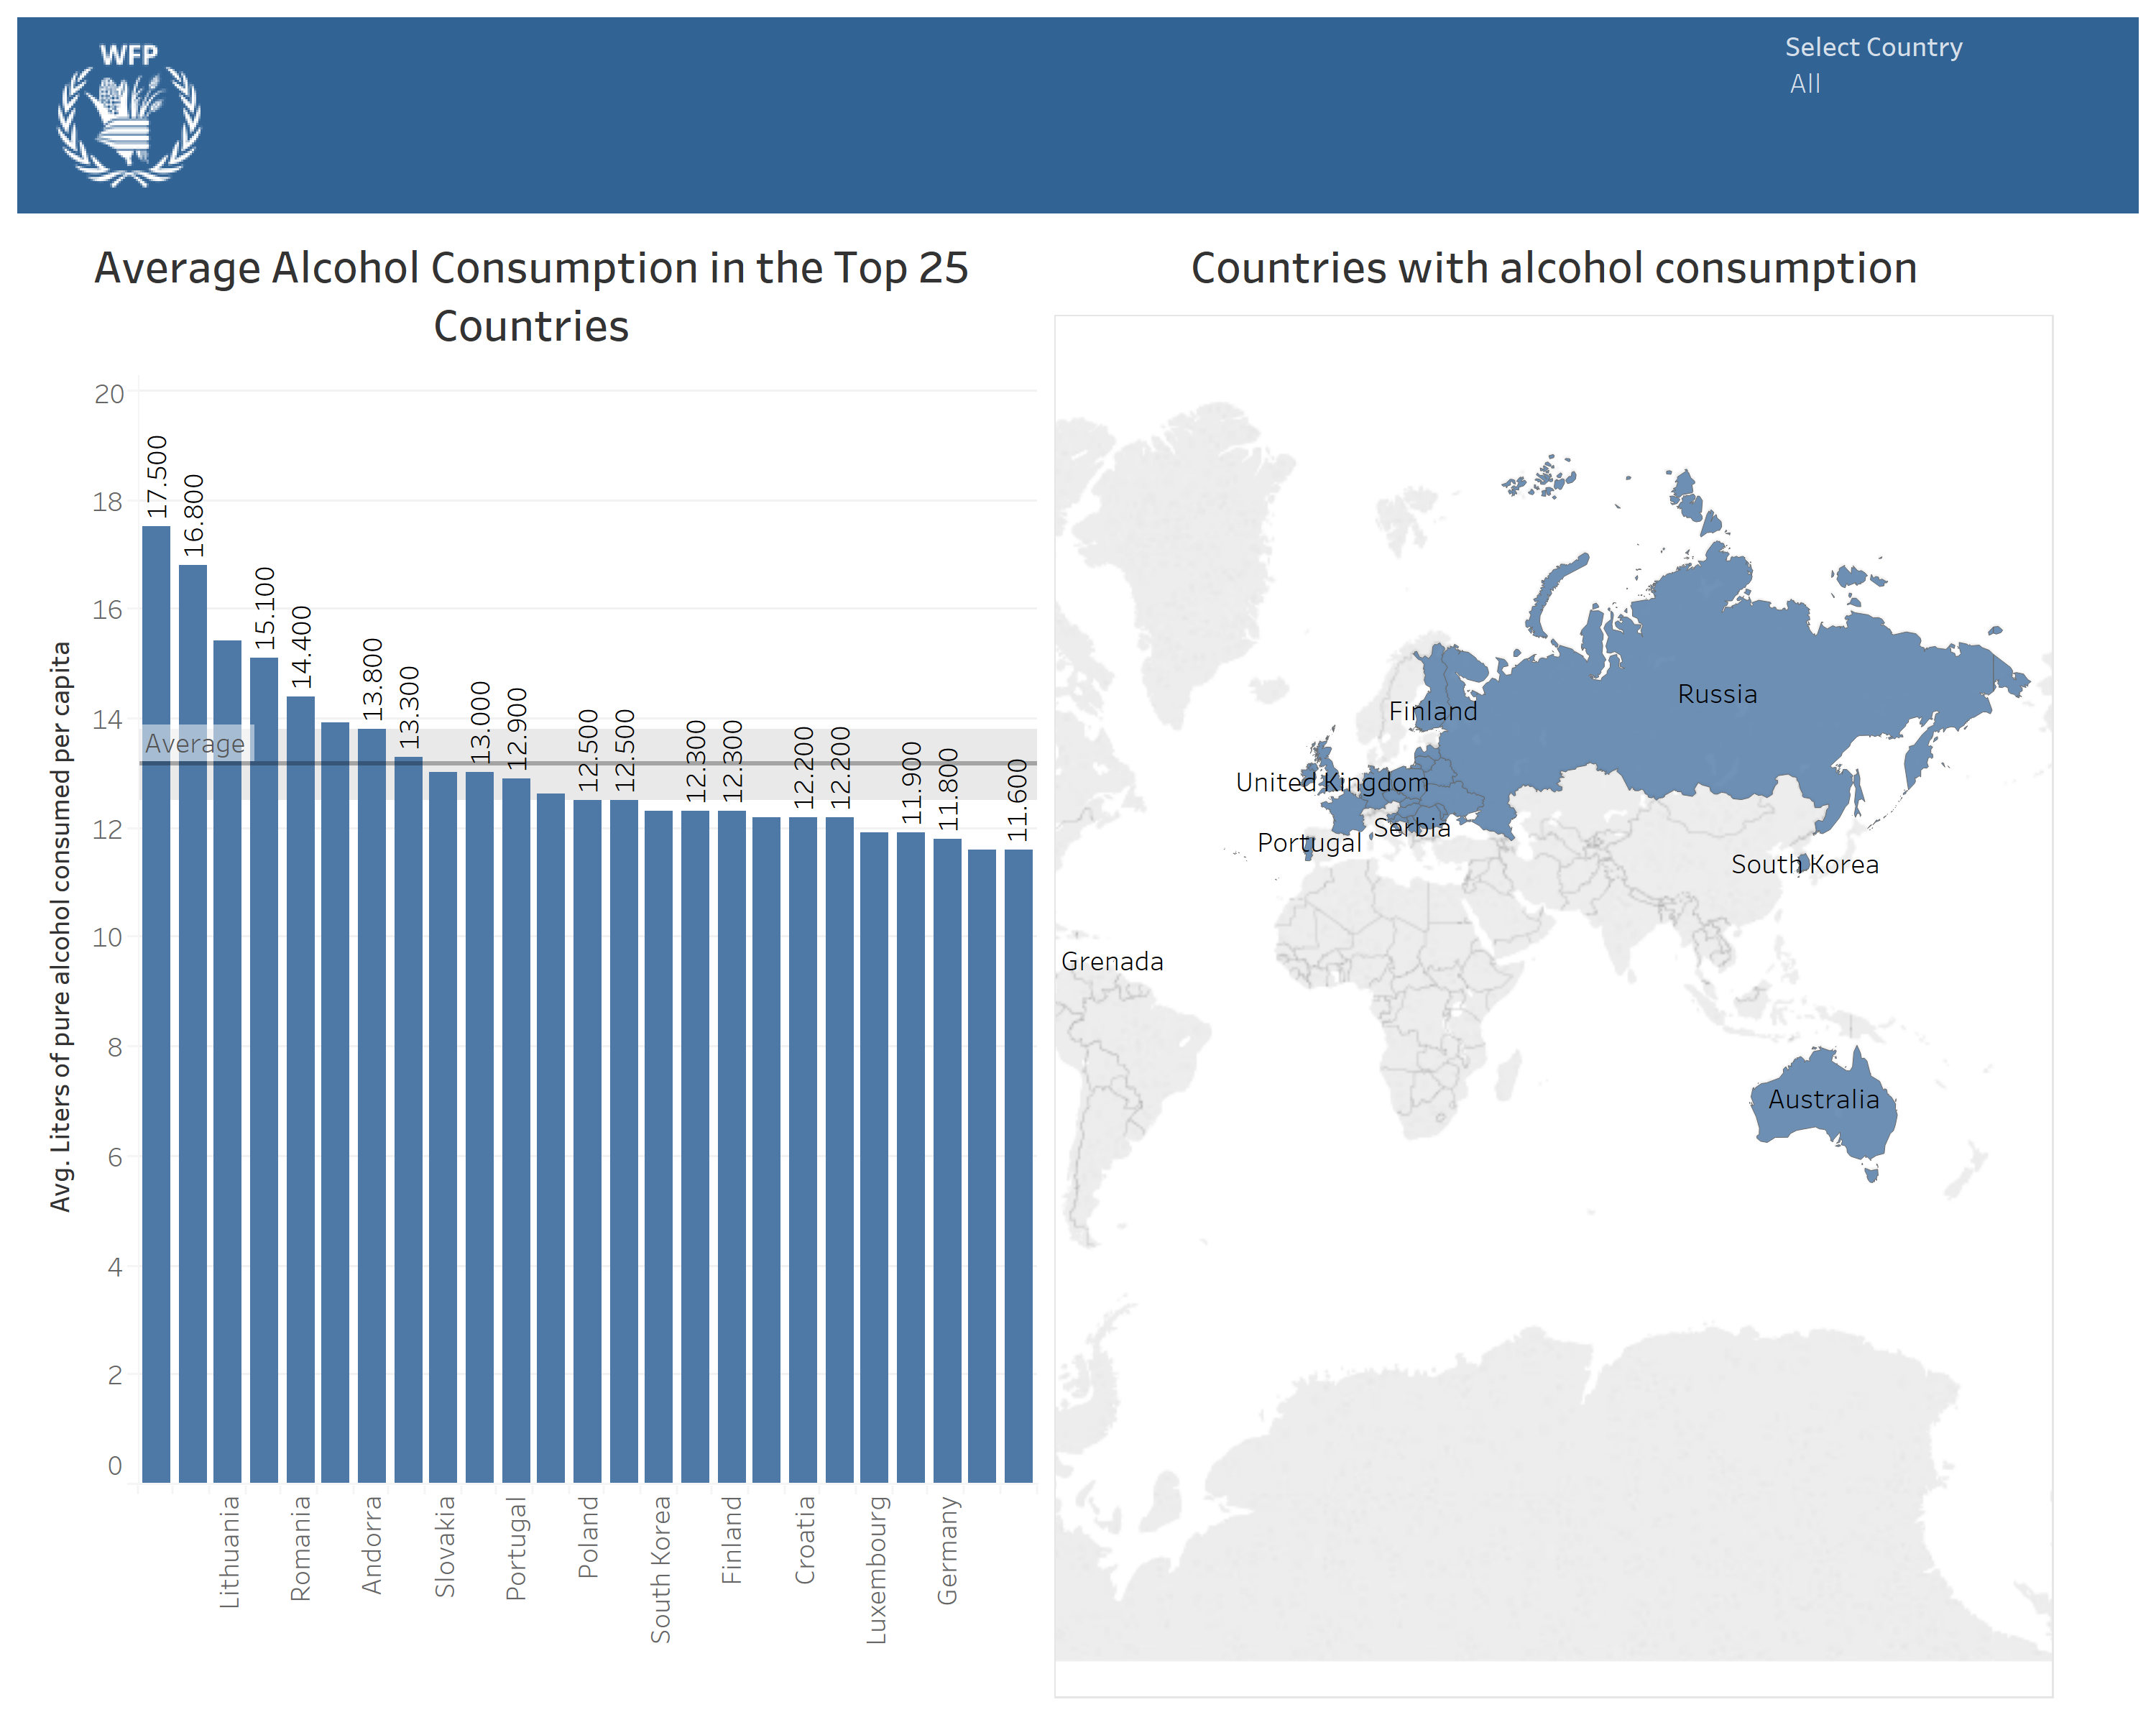

What the dashboard file says about the page in this screenshot:
{"tool":"tableau","page":{"name":"Overview of Alcohol Consumption","canvas":[1000,800],"ordinal":1},"visuals":[{"type":"image","param":"C:/Users/sharon.malio/Desktop/logos/wfp-white.png","box":[8,8,103,91]},{"type":"blank","box":[111,8,713,91]},{"type":"filter","title":"Countries with alcohol consumption","param":"[federated.1pz1zei1rpttko16y7q4p16r0u7c].[none:Country:nk]","box":[824,8,168,91]},{"type":"worksheet","title":"Ave.Litres per Country","mark":"Automatic","rows":["Liters of pure alcohol consumed per capita"],"cols":["Country"],"box":[8,99,477,693]},{"type":"worksheet","title":"Countries with alcohol consumption","mark":"Multipolygon","box":[485,99,472,693]}]}

Visuals, with their boxes on the page's 1000x800 design canvas (x1, y1, x2, y2). These are canvas units, not pixel positions in the 2156x1725 screenshot, which may show the page scaled, cropped or inside an application window:
image: select_region(8, 8, 111, 99)
blank: select_region(111, 8, 824, 99)
"Countries with alcohol consumption" filter: select_region(824, 8, 992, 99)
"Ave.Litres per Country" worksheet: select_region(8, 99, 485, 792)
"Countries with alcohol consumption" worksheet (Multipolygon marks): select_region(485, 99, 957, 792)
